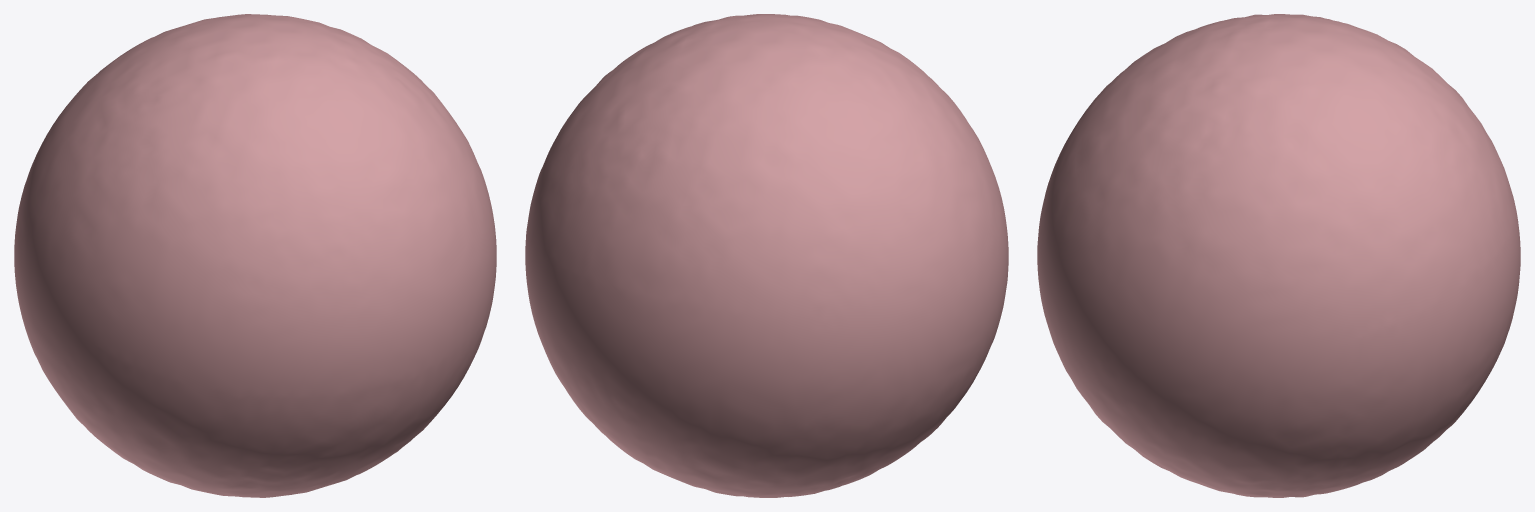
File: fma75639-r_mm1037m.glb
3 views of the same model, side by side, from view 1: azimuth 30°, elevation 25°; view 2: azimuth 150°, elevation 25°; view 3: azimuth 270°, elevation 25° (orthographic).
Parts seen in each view (by area): view 1: FMA75639-R_MM1037M; view 2: FMA75639-R_MM1037M; view 3: FMA75639-R_MM1037M.
Boxes of the visible parts, box(x1,y1,x2,y2) form: FMA75639-R_MM1037M: box(14, 14, 496, 497); FMA75639-R_MM1037M: box(525, 14, 1008, 497); FMA75639-R_MM1037M: box(1037, 14, 1520, 497).
Size of the model in its own units: 0.00251 by 0.00251 by 0.00251.
